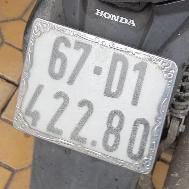0: (127, 115, 153, 161)
1: (130, 55, 150, 106)
2: (71, 92, 96, 147), (48, 88, 69, 137)
4: (21, 82, 44, 126)
6: (45, 33, 72, 82)
7: (68, 35, 94, 88)
8: (101, 107, 125, 157)
D: (102, 49, 129, 103)
